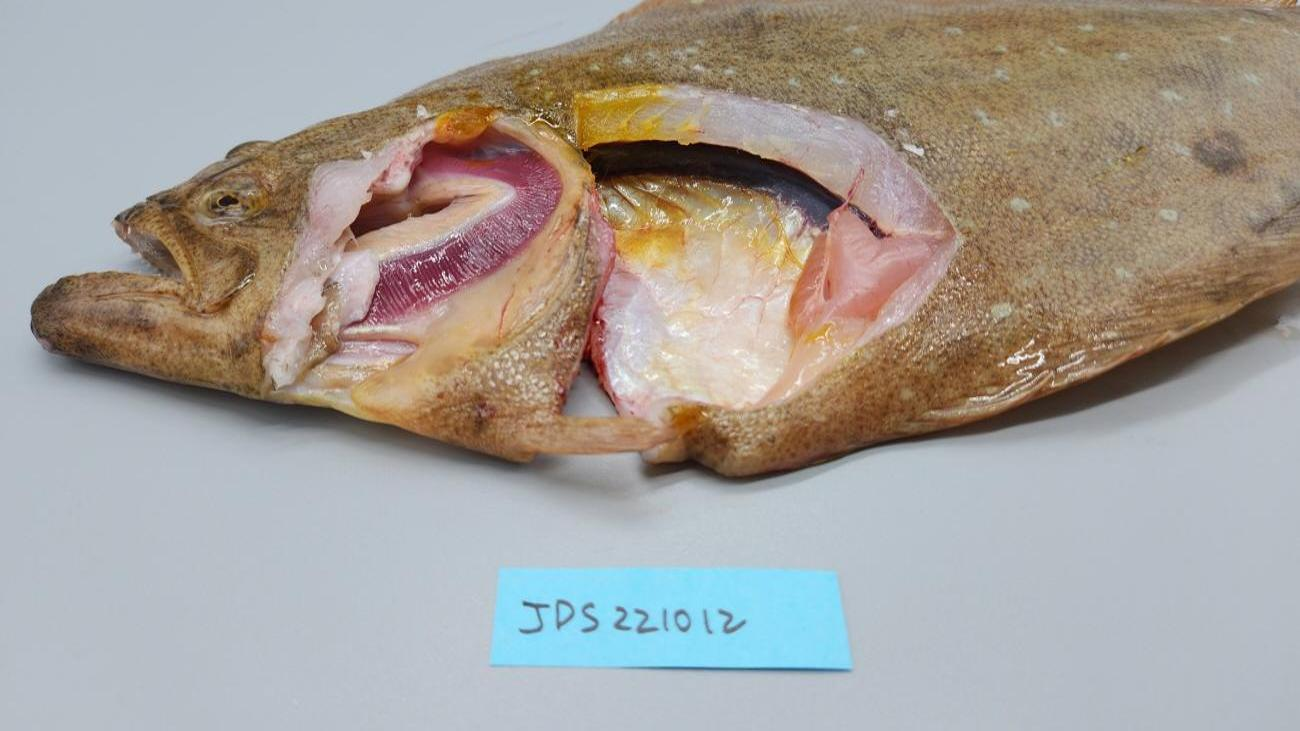POASN: (593, 172, 820, 408)
POKIN: (584, 142, 884, 236)
